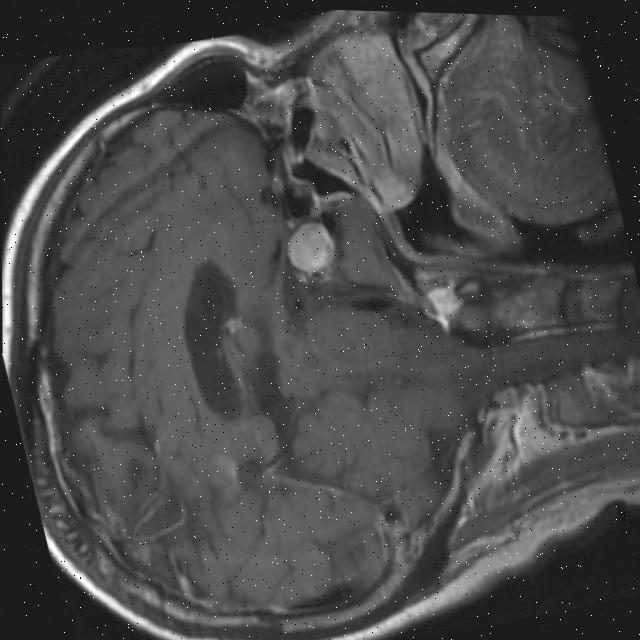Pituitary: (281, 215, 341, 277)
